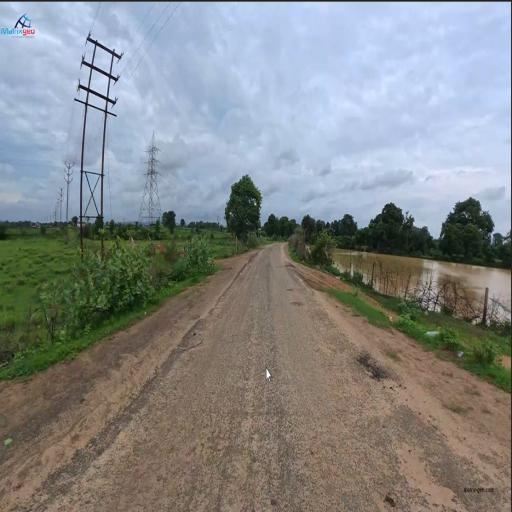ravelling: (202, 353, 292, 481)
